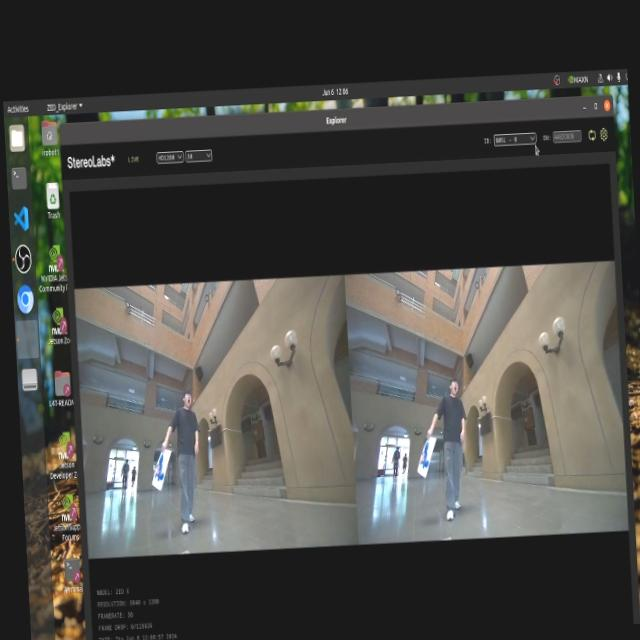blue: (154, 448, 169, 482), (418, 438, 432, 472)
